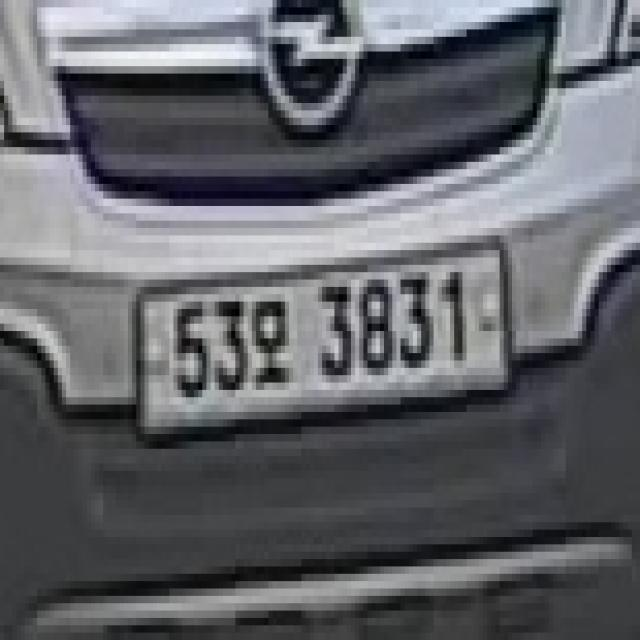1: (438, 265, 479, 368)
3: (396, 265, 438, 375), (318, 280, 355, 397), (206, 302, 248, 404)
5: (170, 302, 207, 397)
8: (355, 280, 392, 382)
license_plate: (128, 242, 512, 448)
mo: (244, 287, 297, 390)
